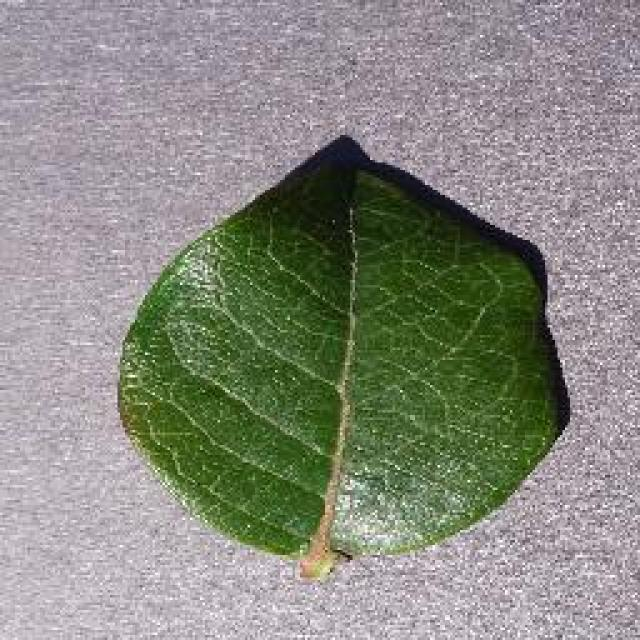Blu_healthy: (149, 193, 539, 542)
